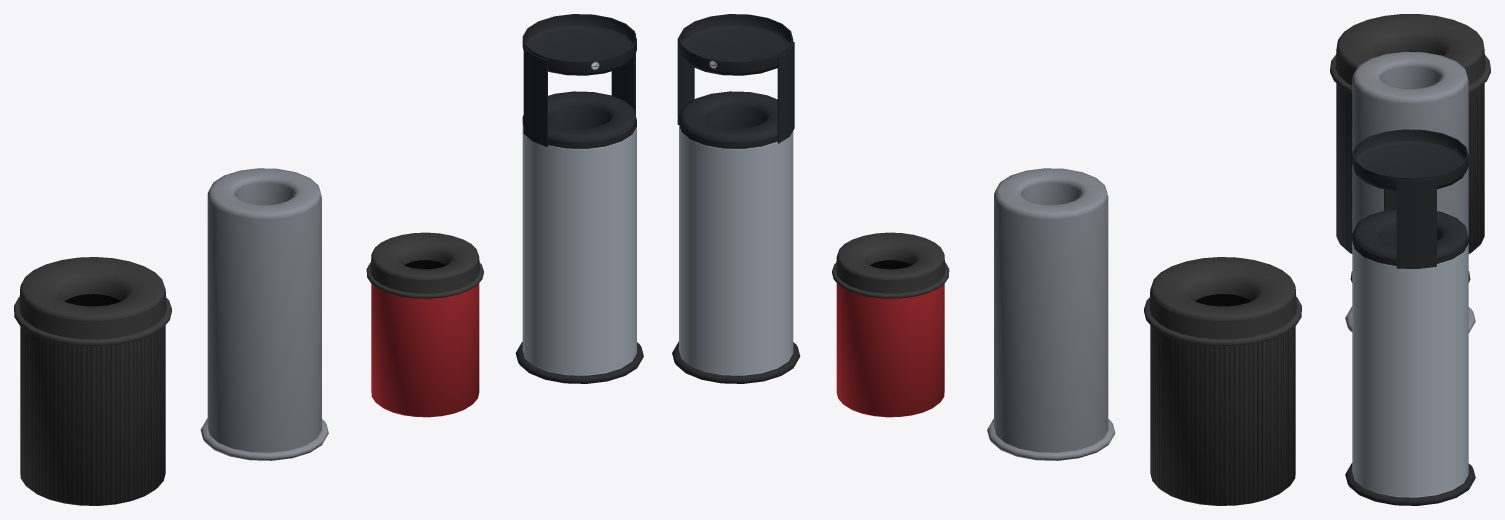
Rendered from waste bin.FBX.
3 views of the same model, side by side, from view 1: azimuth 30°, elevation 25°; view 2: azimuth 150°, elevation 25°; view 3: azimuth 270°, elevation 25° (orthographic).
Visible parts, largest first — view 1: waste bin_001, waste bin_004, waste bin_003, waste bin_002; view 2: waste bin_001, waste bin_004, waste bin_003, waste bin_002; view 3: waste bin_001, waste bin_004, waste bin_003.
Boxes of the visible parts, <box> form: waste bin_001: <box>515,14,643,383</box>; waste bin_004: <box>14,257,171,505</box>; waste bin_003: <box>200,168,328,460</box>; waste bin_002: <box>366,232,483,417</box>; waste bin_001: <box>672,14,800,383</box>; waste bin_004: <box>1144,257,1301,505</box>; waste bin_003: <box>987,168,1115,460</box>; waste bin_002: <box>832,232,949,417</box>; waste bin_001: <box>1345,129,1475,505</box>; waste bin_004: <box>1330,14,1490,253</box>; waste bin_003: <box>1345,51,1475,332</box>.
Size of the model in its own units: 1.63 by 0.815 by 0.3654.
